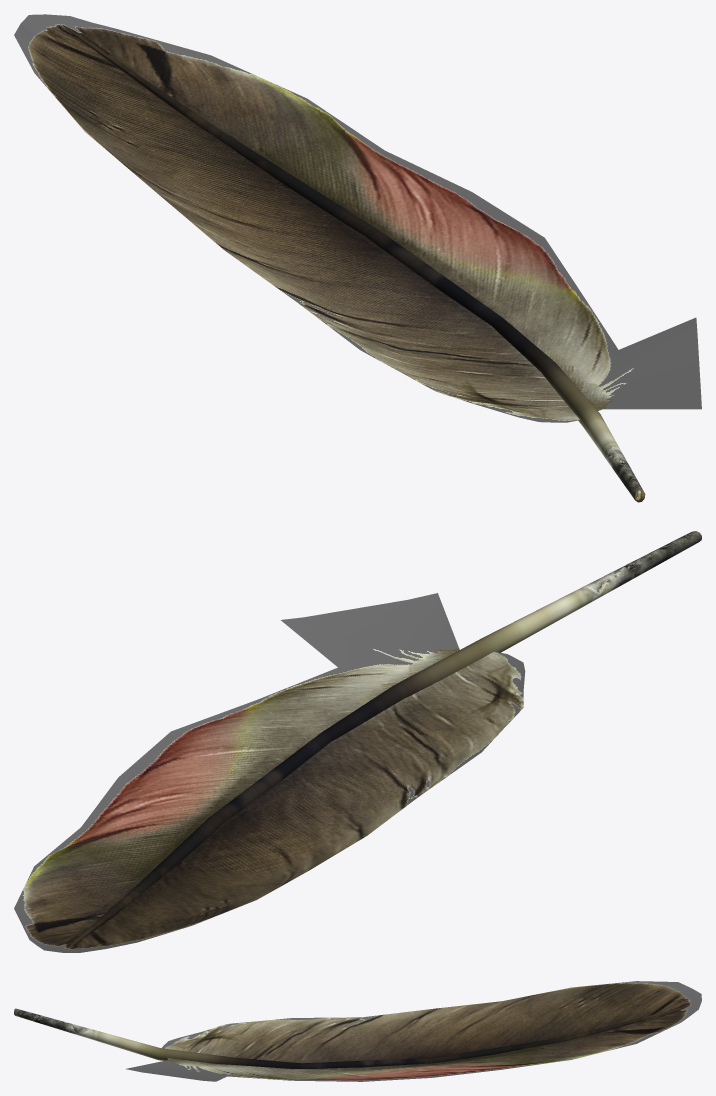
File: quill.glb
3 renders of one model, top to bottom at view 1: azimuth 30°, elevation 25°; view 2: azimuth 150°, elevation 25°; view 3: azimuth 270°, elevation 25°, orthographic. The views are drawn at different scales.
Parts seen in each view (by area): view 1: Quill_LP; view 2: Quill_LP; view 3: Quill_LP.
Part boxes in pixels (x1,y1,x2,y2): Quill_LP: [14, 14, 701, 502]; Quill_LP: [14, 531, 701, 952]; Quill_LP: [14, 981, 701, 1081].
Bounding box in the file's own units: 8.23 × 2.33 × 29.76.
1 material, 1 textured.
